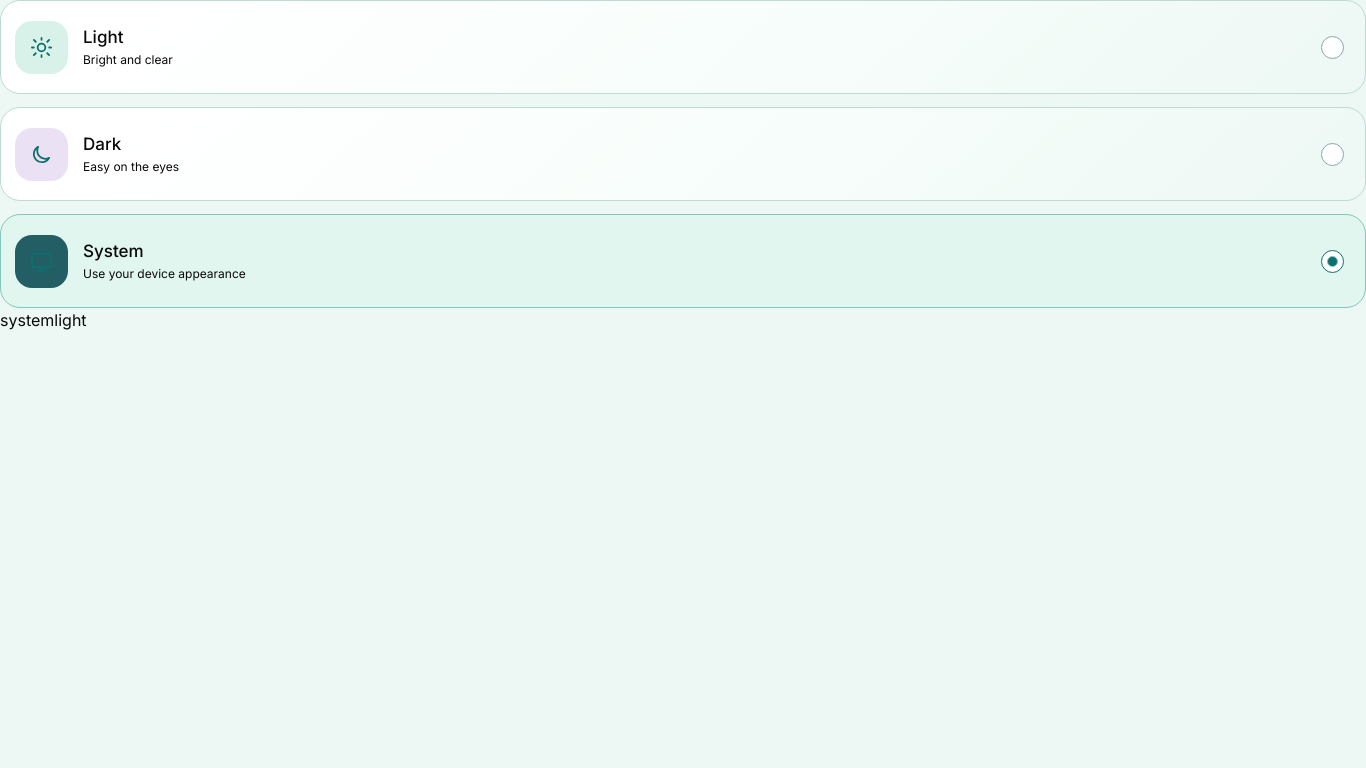
Test: theme selection › restores the saved preference after remount
Later steps or results of the test are not shown.
Click the radio button labelled "Dark" at (42,154), box [0,107,1365,201]
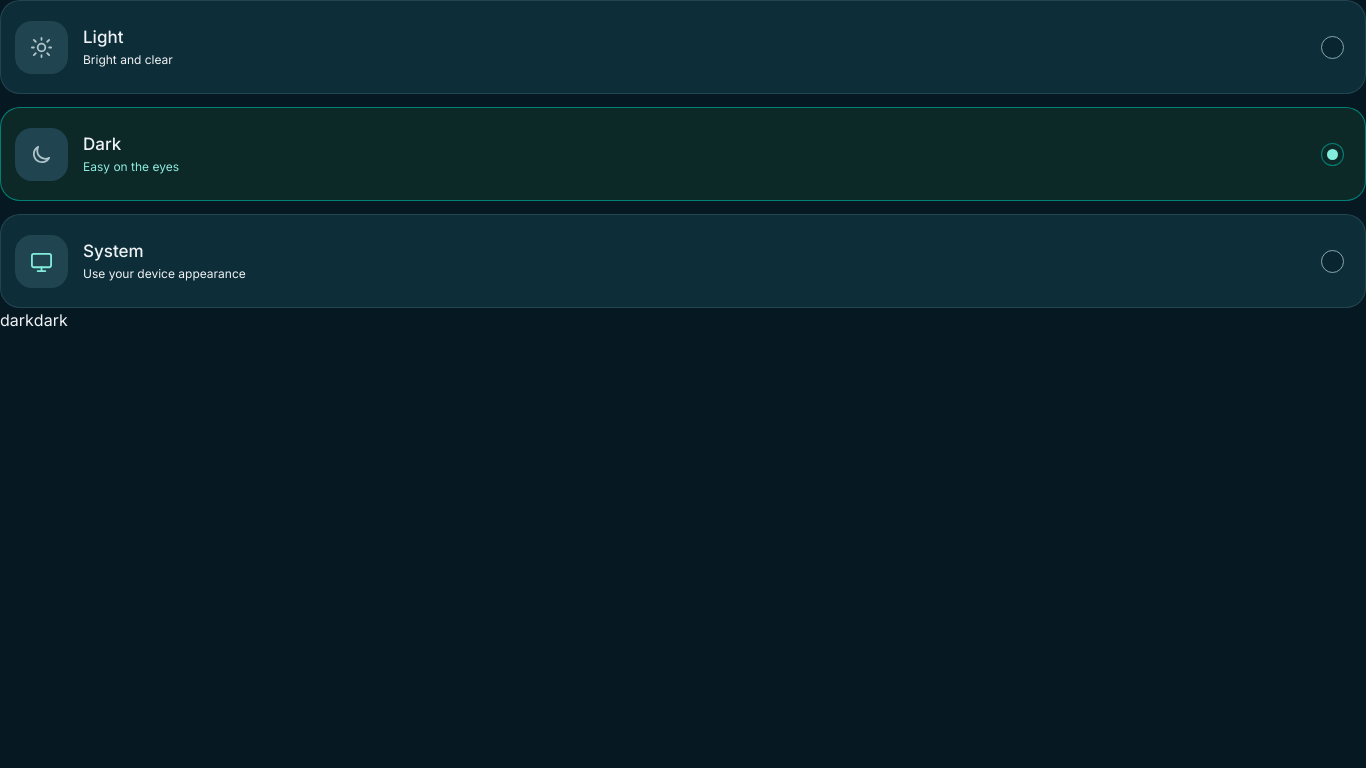
Expected: the text with test id "resolved-theme" reads "dark", [34,310,68,330]
